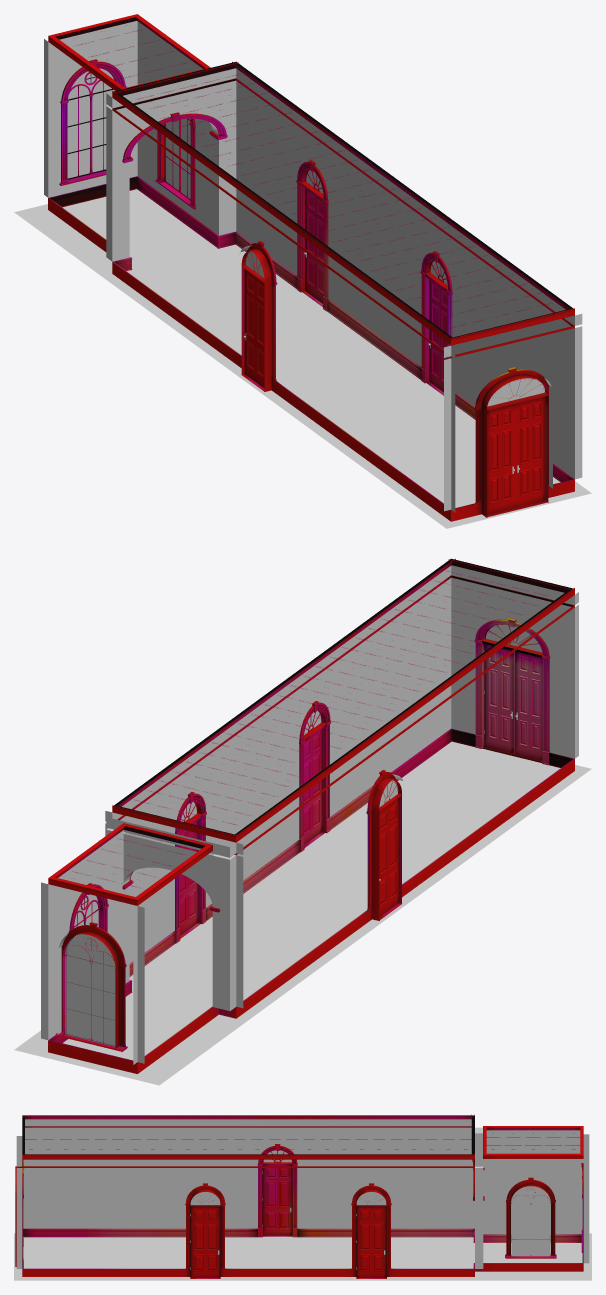
The model's file is room.glb.
The picture shows the model from 3 angles, top to bottom: view 1: azimuth 30°, elevation 25°; view 2: azimuth 150°, elevation 25°; view 3: azimuth 270°, elevation 25°; orthographic projection. The views are drawn at different scales.
Visible parts, largest first — view 1: room_walls, room_floor, room_props, room_glass, room_doors, room_end_leaf_R, room_end_leaf_L, room_ceiling; view 2: room_walls, room_floor, room_props, room_glass, room_doors, room_end_leaf_R, room_end_leaf_L, room_ceiling; view 3: room_walls, room_props, room_floor, room_doors, room_glass, room_ceiling.
Part boxes in pixels (x1,y1,x2,y2): room_walls: (44, 21, 582, 512); room_floor: (14, 189, 591, 528); room_props: (48, 14, 574, 521); room_glass: (67, 68, 545, 406); room_doors: (244, 188, 447, 392); room_end_leaf_R: (515, 396, 545, 507); room_end_leaf_L: (487, 404, 515, 514); room_ceiling: (77, 30, 552, 330); room_walls: (41, 565, 578, 1064); room_floor: (14, 741, 591, 1085); room_props: (48, 558, 574, 1073); room_glass: (65, 625, 542, 1046); room_doors: (179, 729, 398, 935); room_end_leaf_R: (484, 644, 513, 753); room_end_leaf_L: (515, 651, 542, 760); room_ceiling: (72, 562, 564, 886); room_walls: (16, 1119, 589, 1268); room_props: (15, 1114, 583, 1278); room_floor: (14, 1233, 591, 1280); room_doors: (190, 1165, 386, 1277); room_glass: (190, 1150, 550, 1256); room_ceiling: (24, 1117, 579, 1149).
Size of the model in its own units: 4.04 by 4.87 by 20.82.
